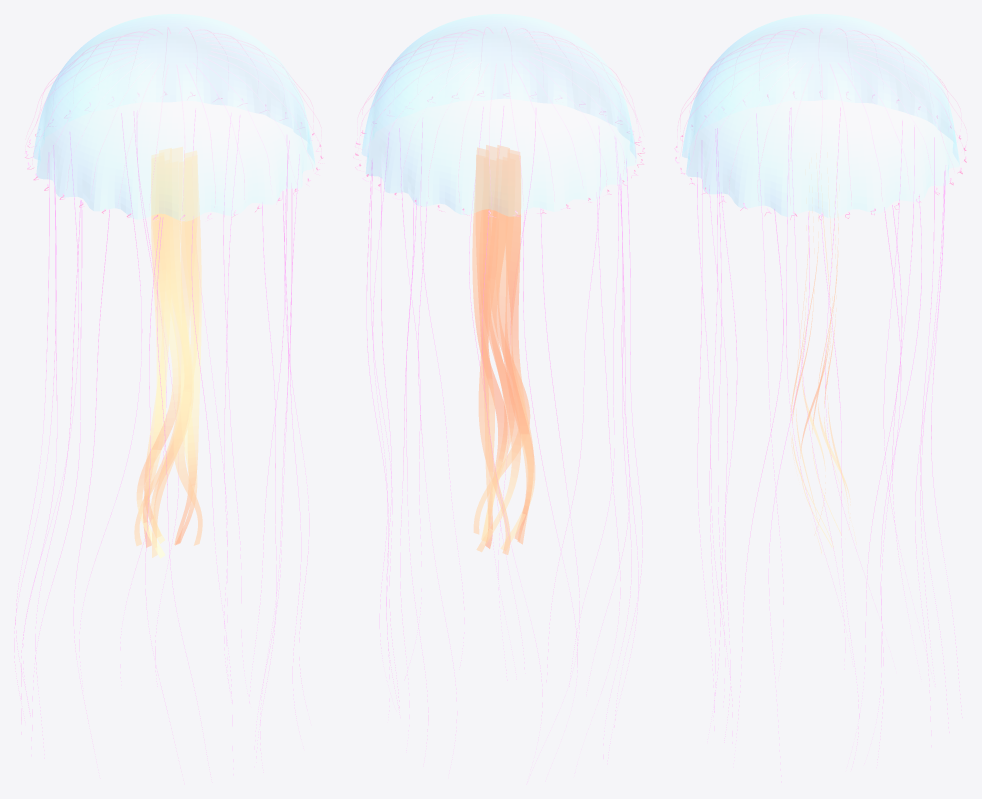
File: jellyfish_candidate.glb
3 views of the same model, side by side, from view 1: azimuth 30°, elevation 25°; view 2: azimuth 150°, elevation 25°; view 3: azimuth 270°, elevation 25° (orthographic). The views are drawn at different scales.
Parts seen in each view (by area): view 1: reference_jellyfish_bell, reference_jellyfish_oral_arms, reference_jellyfish_long_tentacles, reference_jellyfish_subtle_bell_veins, reference_jellyfish_scalloped_rim_frill; view 2: reference_jellyfish_bell, reference_jellyfish_oral_arms, reference_jellyfish_long_tentacles, reference_jellyfish_subtle_bell_veins, reference_jellyfish_scalloped_rim_frill; view 3: reference_jellyfish_bell, reference_jellyfish_long_tentacles, reference_jellyfish_oral_arms, reference_jellyfish_subtle_bell_veins.
Part boxes in pixels (<box>): reference_jellyfish_bell: <box>33,14,315,221</box>; reference_jellyfish_oral_arms: <box>134,147,202,558</box>; reference_jellyfish_long_tentacles: <box>14,110,309,774</box>; reference_jellyfish_subtle_bell_veins: <box>26,27,321,209</box>; reference_jellyfish_scalloped_rim_frill: <box>25,91,324,222</box>; reference_jellyfish_bell: <box>361,14,636,216</box>; reference_jellyfish_oral_arms: <box>472,145,535,554</box>; reference_jellyfish_long_tentacles: <box>366,107,642,758</box>; reference_jellyfish_subtle_bell_veins: <box>358,27,641,188</box>; reference_jellyfish_scalloped_rim_frill: <box>353,91,645,217</box>; reference_jellyfish_bell: <box>682,14,959,217</box>; reference_jellyfish_long_tentacles: <box>697,107,962,782</box>; reference_jellyfish_oral_arms: <box>790,204,856,553</box>; reference_jellyfish_subtle_bell_veins: <box>677,28,966,197</box>.
Bounding box in the file's own units: 2.33 × 5.86 × 2.23.
